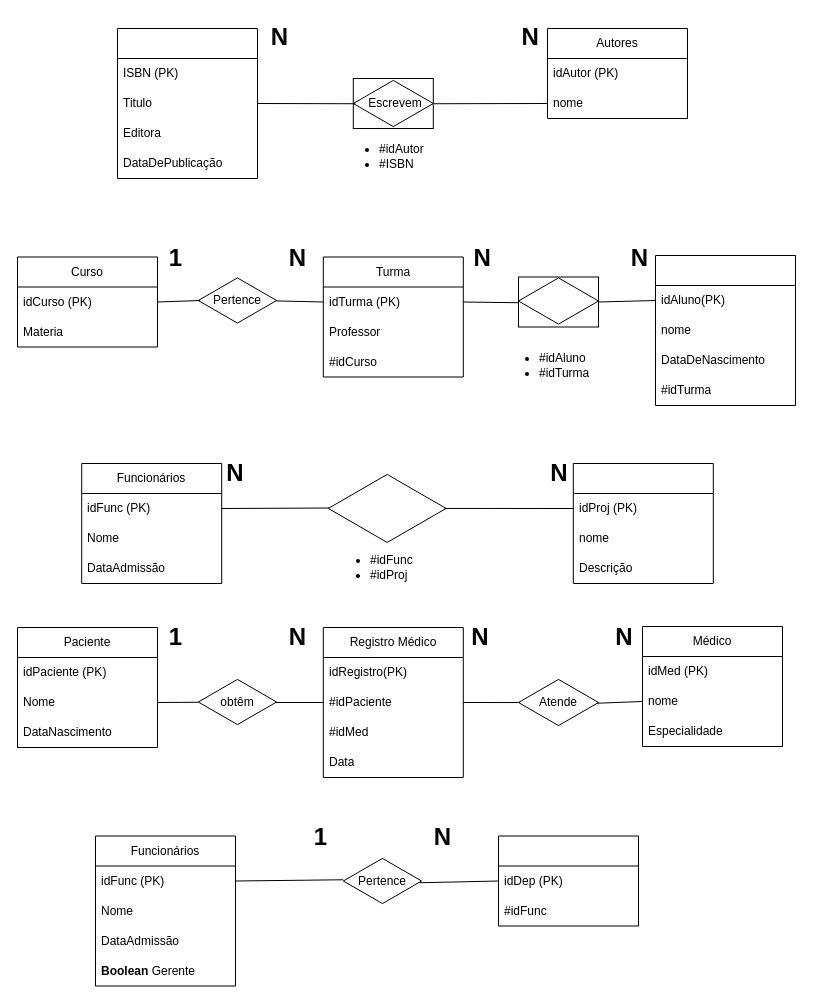
Some shapes in this 813 by 1003 pixel diagram are drawn without their labels. Here are the shapes that lost their labels. From the top down, the box of each, then its label:
(116, 28, 258, 178): Livros
(518, 276, 598, 325): Pertencem
(654, 254, 796, 406): Alunos
(327, 472, 446, 544): Trabalham em
(572, 462, 713, 584): Projetos
(498, 835, 638, 926): Departamento
